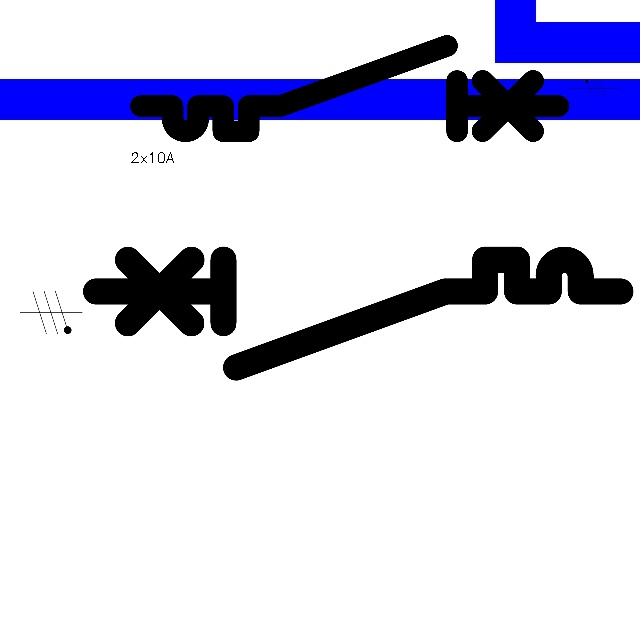interruptor_termomagnetico: (82, 246, 634, 381), (130, 35, 569, 142)
